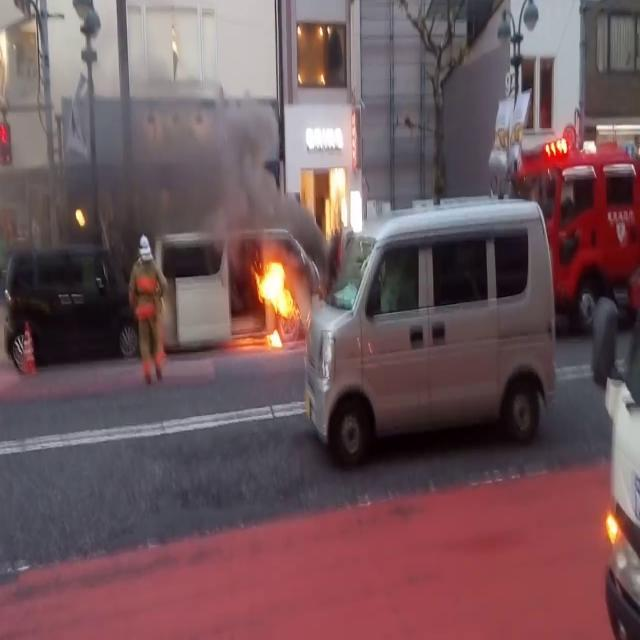Fire: (250, 246, 296, 339), (319, 150, 356, 252)
Smoke: (1, 11, 276, 246)
